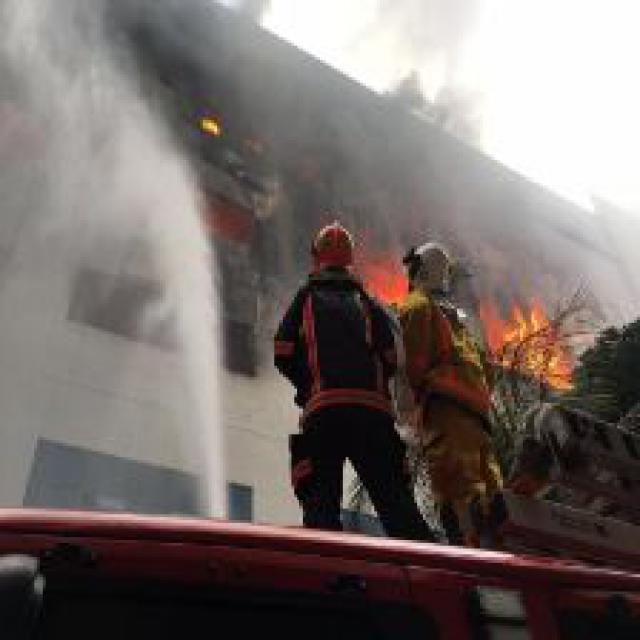fire: (480, 300, 591, 391)
